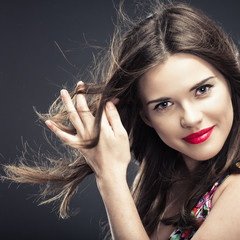teen: (124, 29, 233, 167)
